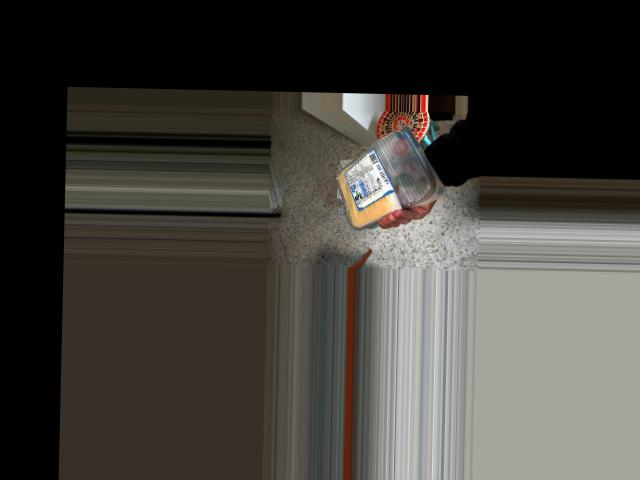cheese: (325, 122, 433, 219)
